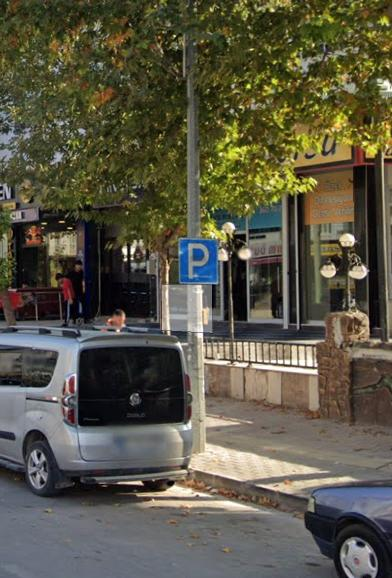park: (180, 239, 217, 281)
